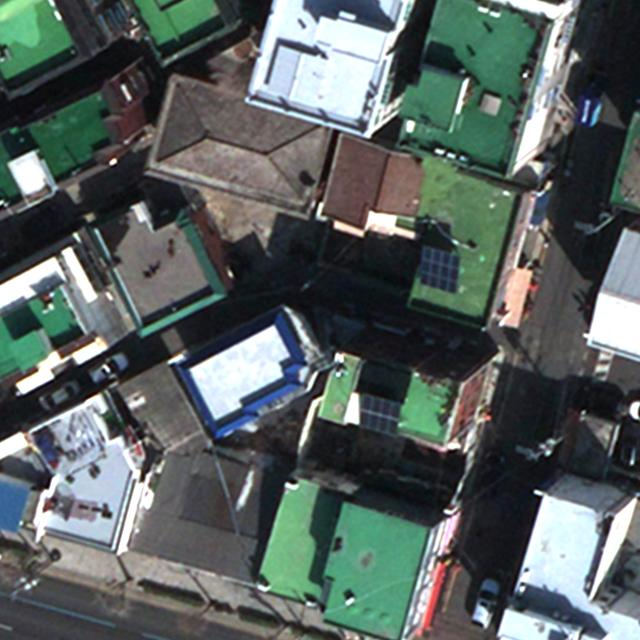panel: (416, 242, 462, 296), (356, 389, 403, 438)
